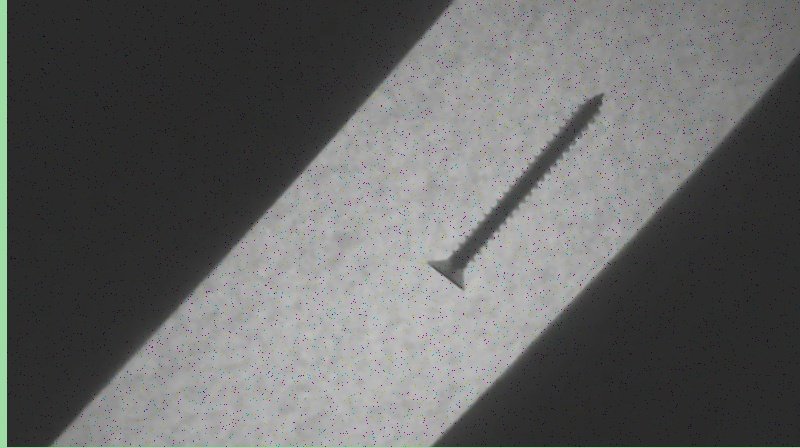S002: (420, 86, 609, 292)
